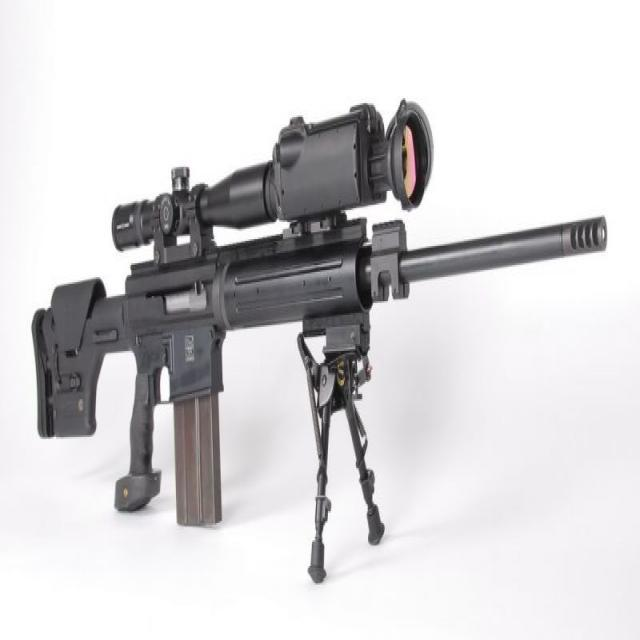rifle: (23, 95, 608, 588)
